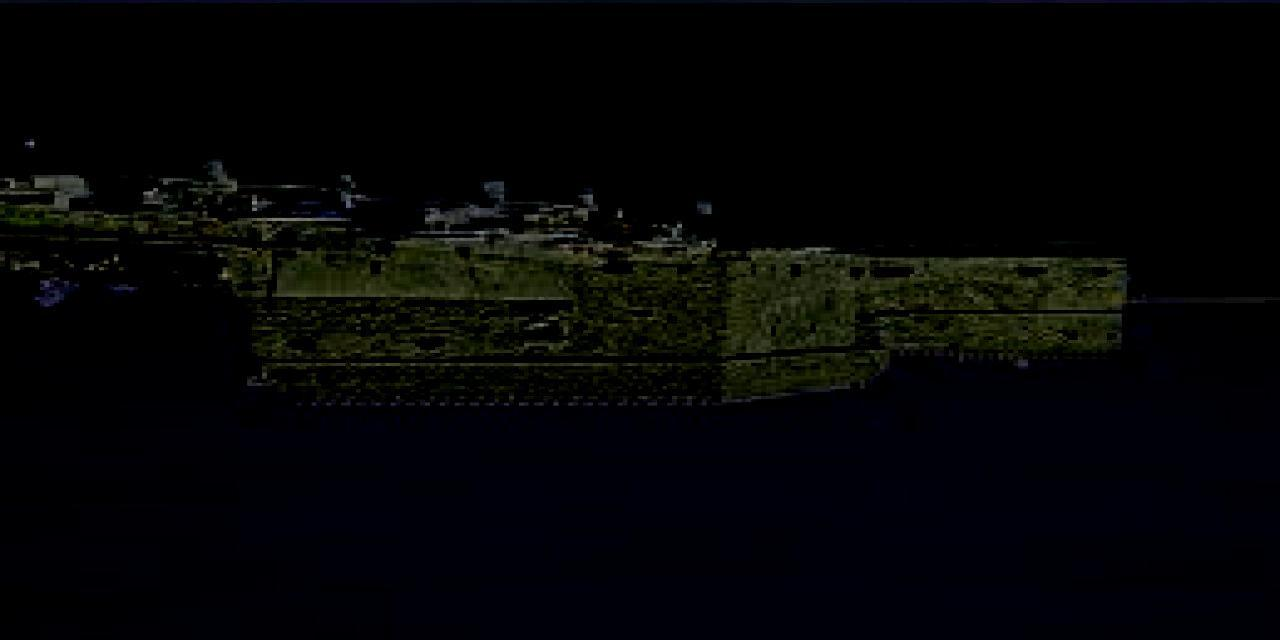Kules: (223, 252, 1136, 416)
